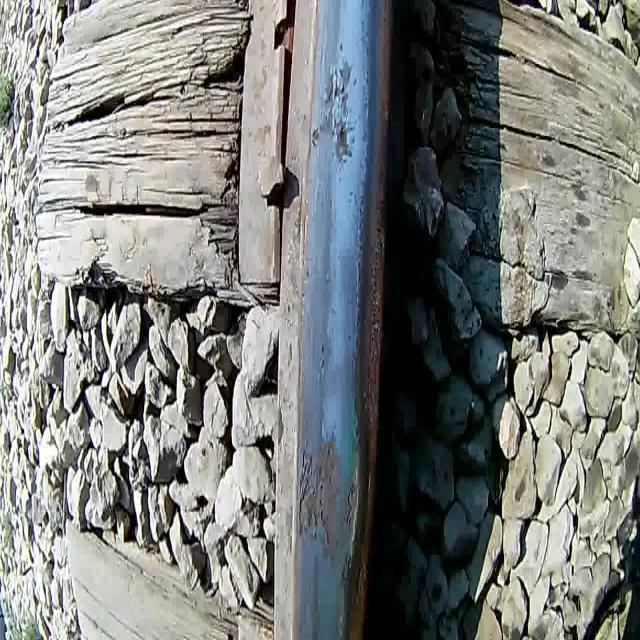Cracks: (294, 429, 314, 548), (342, 475, 357, 545), (317, 500, 333, 553)
Spallings: (324, 60, 354, 103), (338, 545, 355, 586)
Squats: (293, 419, 361, 588), (308, 31, 367, 177)
